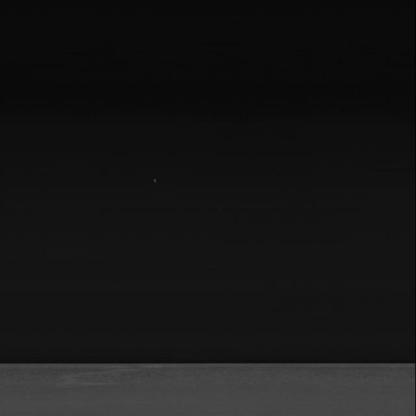silk_spot: (47, 368, 188, 392)
